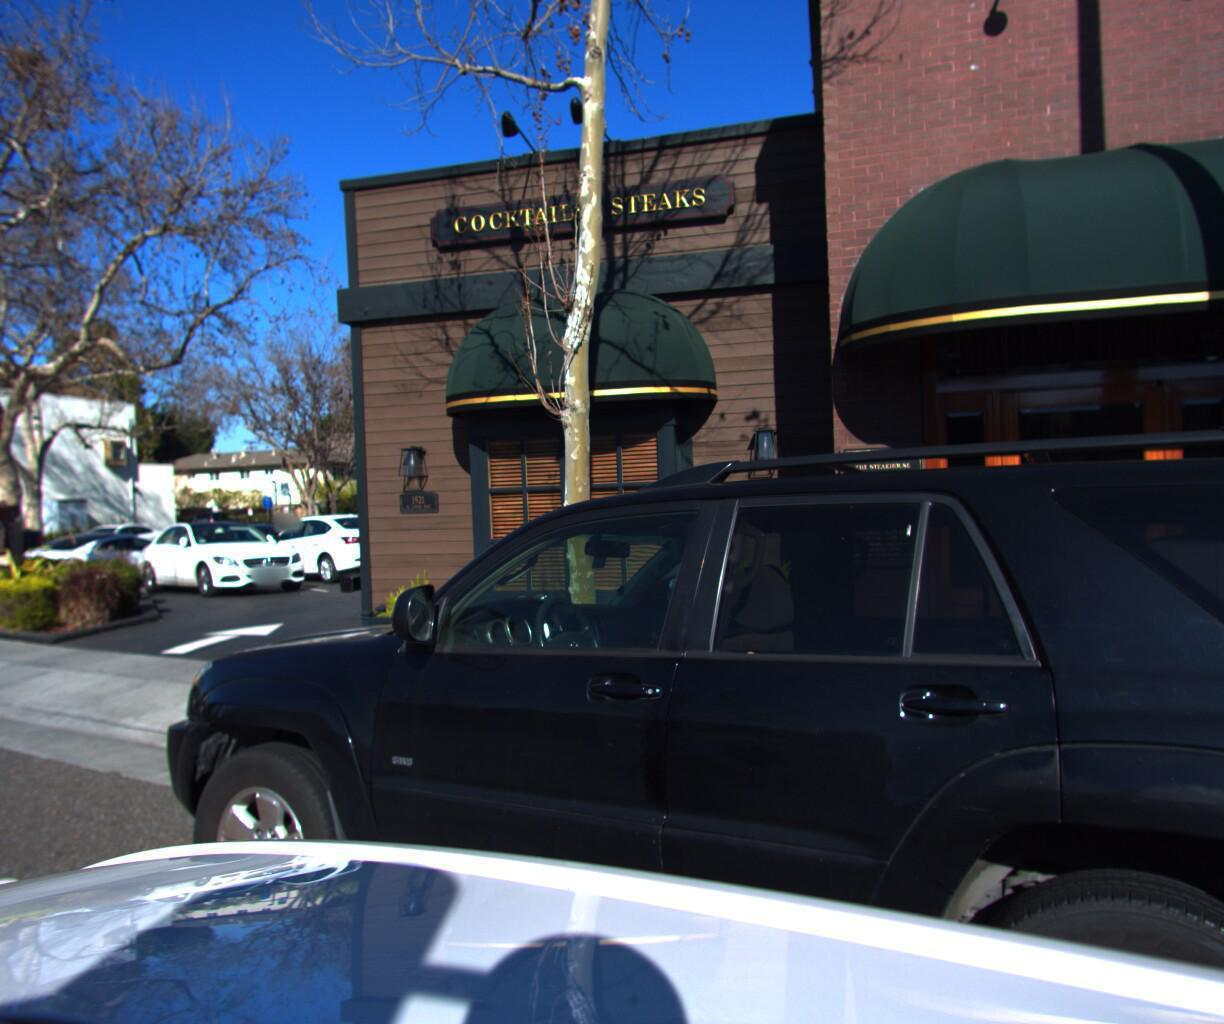car: (33, 300, 1224, 1024), (126, 516, 316, 605), (3, 523, 211, 598), (242, 510, 422, 586), (202, 517, 344, 571), (32, 518, 176, 569), (0, 513, 54, 590)
